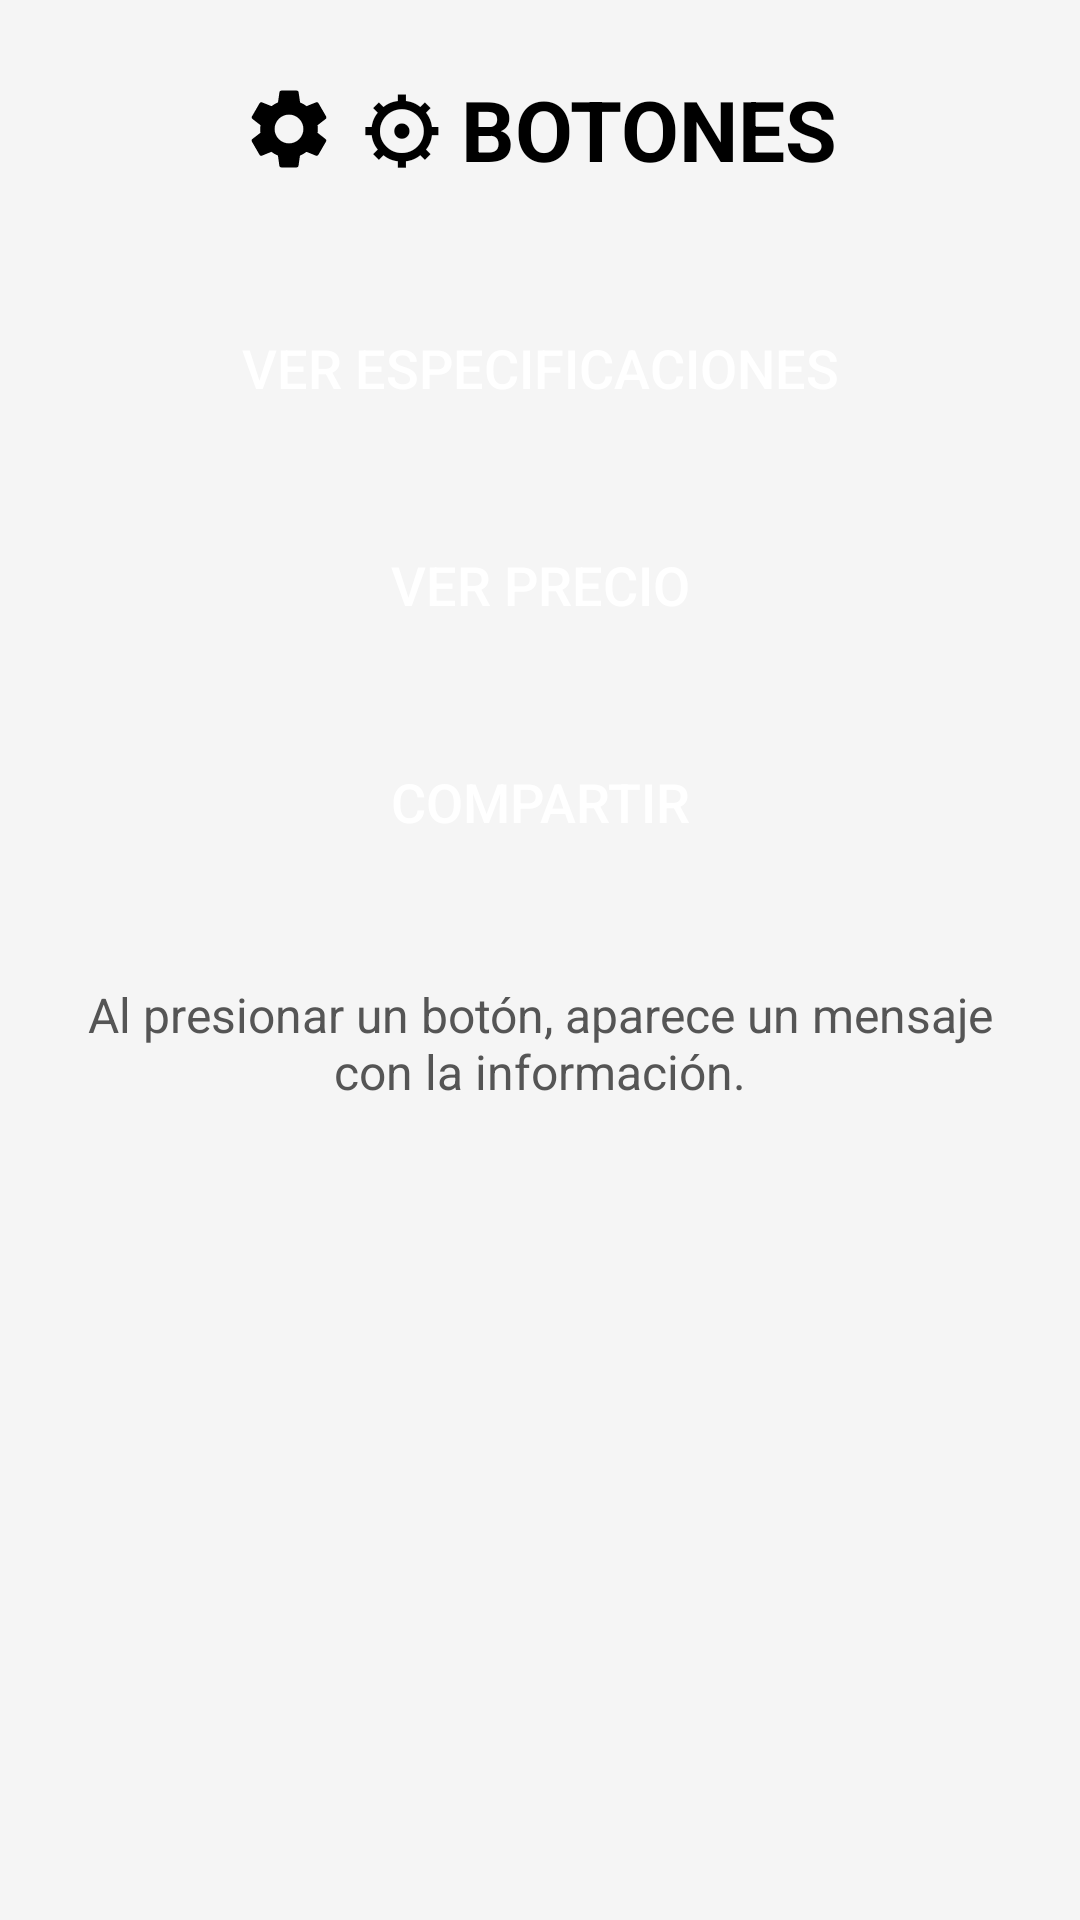

Icons on this 1080*1920 Android screen, each with its box as [x1=x1, y1=y1, x2=x2, y2=y2]:
settings: [x1=251, y1=90, x2=327, y2=168]
